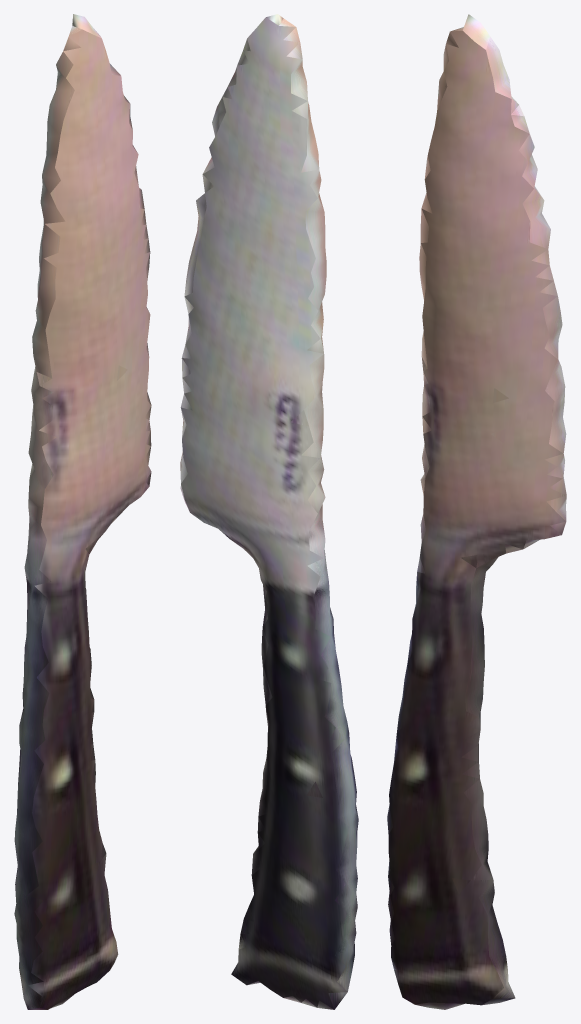
Rendered from knife1.glb.
3 renders of one model, left to right at view 1: azimuth 30°, elevation 25°; view 2: azimuth 150°, elevation 25°; view 3: azimuth 330°, elevation 25°, orthographic.
Visible parts, largest first — view 1: geometry_0.015; view 2: geometry_0.015; view 3: geometry_0.015.
Boxes of the visible parts, bbox=[...] form: geometry_0.015: bbox=[14, 14, 151, 1009]; geometry_0.015: bbox=[180, 14, 358, 1009]; geometry_0.015: bbox=[387, 14, 566, 1009].
Size of the model in its own units: 0.0592 by 0.3596 by 0.0278.
1 material, 1 textured.
